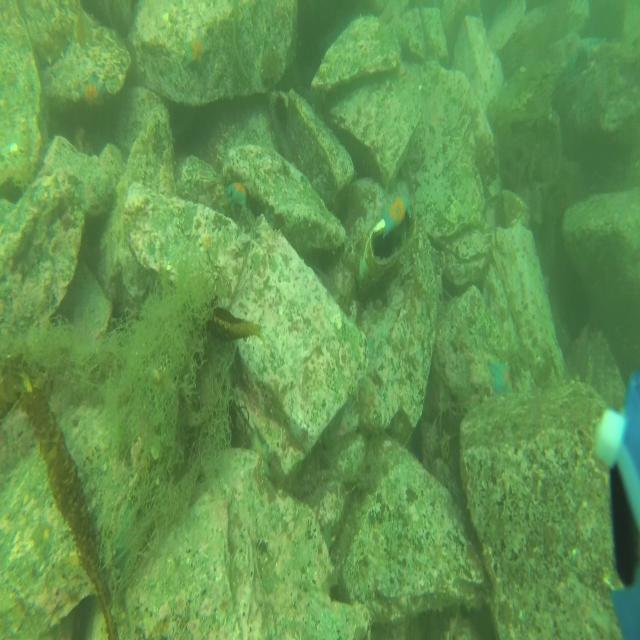holothurian: (35, 17, 74, 72)
starfish: (182, 29, 213, 75), (381, 193, 413, 234), (76, 70, 108, 108), (488, 357, 513, 396), (227, 180, 248, 210)
